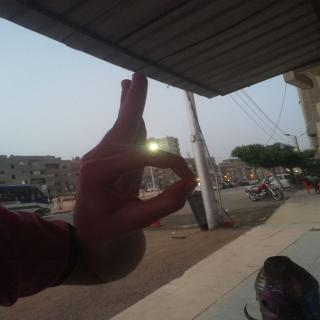Space: (71, 71, 210, 249)
